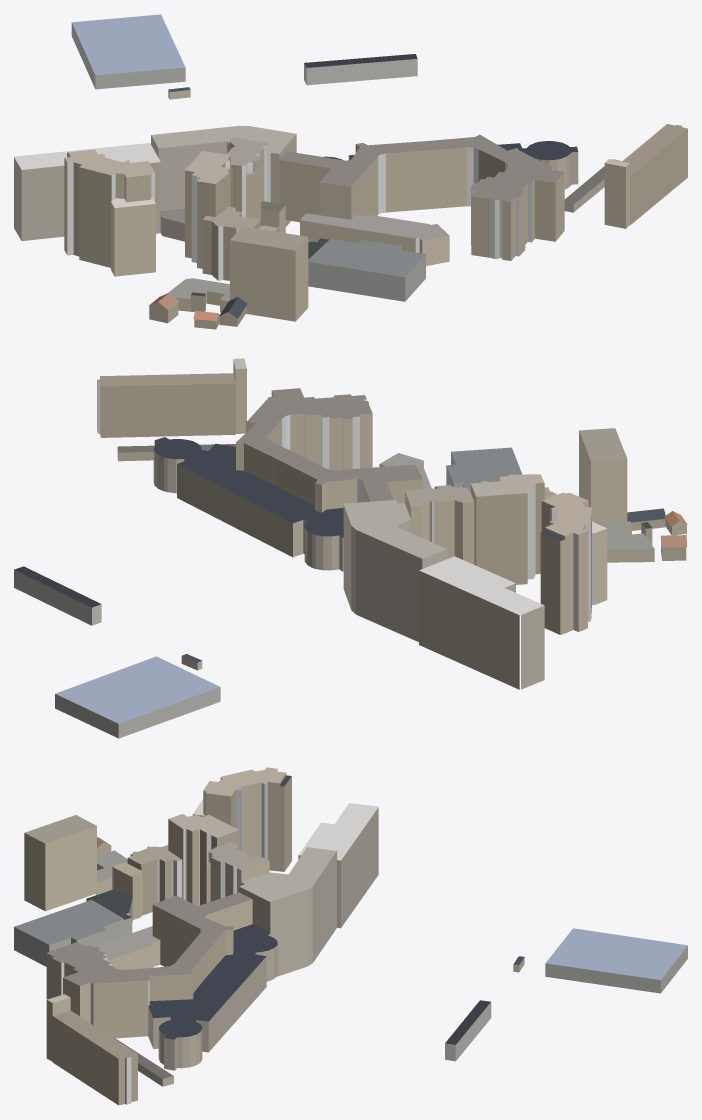
3 renders of one model, top to bottom at view 1: azimuth 30°, elevation 25°; view 2: azimuth 150°, elevation 25°; view 3: azimuth 270°, elevation 25°, orthographic. The views are drawn at different scales.
Parts seen in each view (by area): view 1: tuile; view 2: tuile; view 3: tuile.
Boxes of the visible parts, left/top/right/bottom form: tuile: left=14, top=14, right=687, bottom=329; tuile: left=14, top=358, right=687, bottom=738; tuile: left=14, top=767, right=687, bottom=1105.
Bounding box in the file's own units: 254 × 48.5 × 284.
